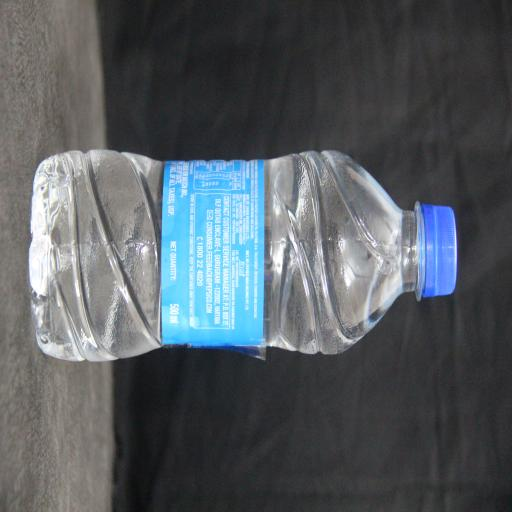Aquafina: (100, 83, 237, 512)
